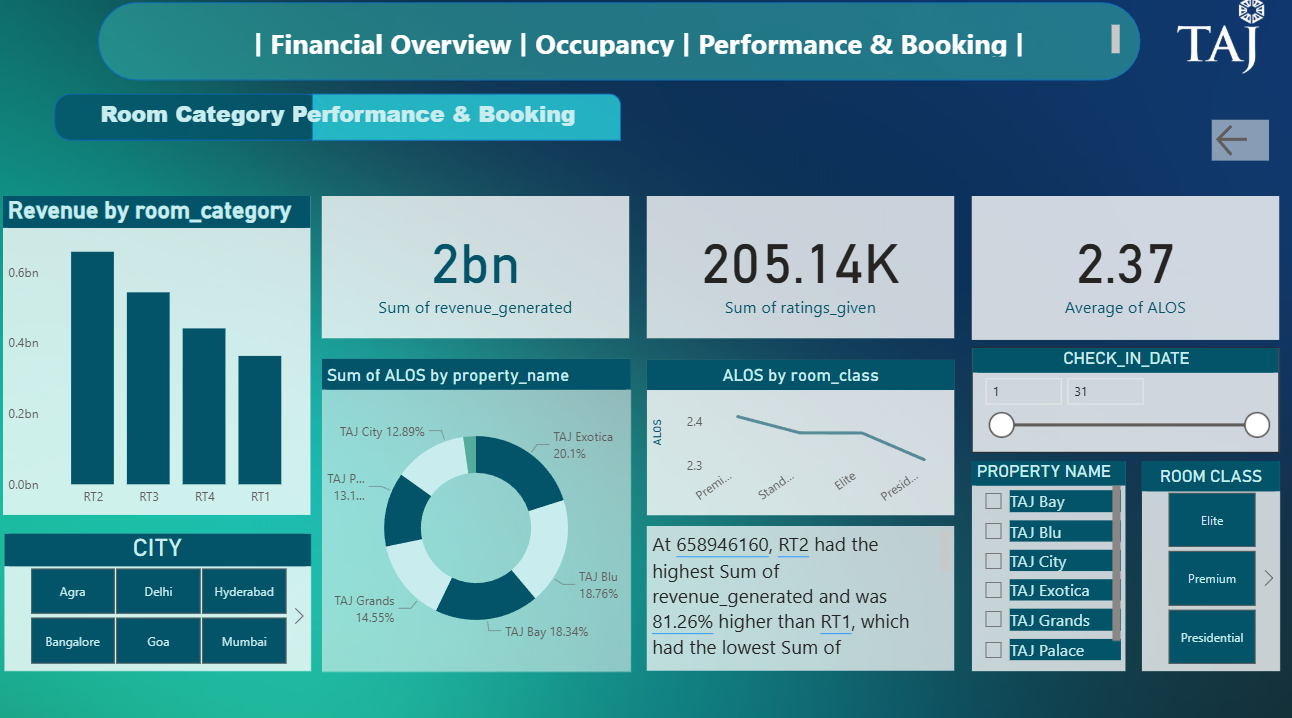

What the dashboard file says about the page in this screenshot:
{"tool":"powerbi","page":{"name":"Room Category","canvas":[1280,720],"ordinal":3},"visuals":[{"type":"image","box":[0,0,1280,720.3],"z":0},{"type":"image","box":[1123,0,156.6,87.2],"z":1000},{"type":"shape","box":[103.2,10.7,1019.8,76.5],"z":2000},{"type":"shape","box":[60.5,99.7,263.4,46.3],"z":3000},{"type":"shape","box":[311.5,99.7,302.6,46.3],"z":4000},{"type":"textbox","box":[140.6,28.5,966.4,40.9],"z":5000},{"type":"clusteredColumnChart","title":" Revenue by room_category","fields":{"Category":["bookings.room_category"],"Y":["Sum(bookings.revenue_generated)"]},"box":[10,200.3,301,312.2],"z":6000},{"type":"textbox","box":[99.7,99.7,491.2,46.3],"z":7000},{"type":"card","fields":{"Values":["Sum(bookings.revenue_generated)"]},"box":[322.2,200.3,301,139.3],"z":8000},{"type":"card","fields":{"Values":["Sum(bookings.ratings_given)"]},"box":[639.4,200.3,301,139.3],"z":9000},{"type":"donutChart","fields":{"Category":["hotels (1).property_name"],"Y":["Sum(bookings.ALOS)"]},"box":[322.2,359.5,302.3,306],"z":10000},{"type":"slicer","title":"PROPERTY NAME","fields":{"Values":["hotels (1).property_name"]},"box":[957.8,460.3,150.5,205.3],"z":11000},{"type":"slicer","title":"CITY","fields":{"Values":["hotels (1).city"]},"box":[11.2,531.2,299.8,134.3],"z":12000},{"type":"textbox","box":[639.4,523.7,301,141.8],"z":13000},{"type":"card","fields":{"Values":["Avg(bookings.ALOS)"]},"box":[957.8,200.3,301,140.6],"z":14000},{"type":"slicer","title":"CHECK_IN_DATE","fields":{"Values":["bookings.check_in_date.Variation.Date Hierarchy.Day"]},"box":[957.8,348.3,301,103.2],"z":15000},{"type":"lineChart","title":" ALOS by room_class","fields":{"Category":["rooms.room_class"],"Y":["Avg(bookings.ALOS)"]},"box":[639.4,360.7,301,151.8],"z":16000},{"type":"slicer","title":"ROOM CLASS","fields":{"Values":["rooms.room_class"]},"box":[1123.3,460.3,135.6,205.3],"z":17000},{"type":"actionButton","box":[1191.7,125.5,56.3,40.4],"z":18000}]}

Visuals, with their boxes in screenshot pixels (x1, y1, x2, y2), scaled from the page's 1280x720 canvas onto the 1292x718 screenshot:
image: [left=0, top=0, right=1291, bottom=717]
image: [left=1134, top=0, right=1291, bottom=87]
shape: [left=104, top=11, right=1134, bottom=87]
shape: [left=61, top=99, right=327, bottom=146]
shape: [left=314, top=99, right=620, bottom=146]
textbox: [left=142, top=28, right=1117, bottom=69]
" Revenue by room_category" clusteredColumnChart: [left=10, top=200, right=314, bottom=511]
textbox: [left=101, top=99, right=596, bottom=146]
card - Sum(bookings.revenue_generated): [left=325, top=200, right=629, bottom=339]
card - Sum(bookings.ratings_given): [left=645, top=200, right=949, bottom=339]
donutChart - hotels (1).property_name x Sum(bookings.ALOS): [left=325, top=359, right=630, bottom=664]
"PROPERTY NAME" slicer: [left=967, top=459, right=1119, bottom=664]
"CITY" slicer: [left=11, top=530, right=314, bottom=664]
textbox: [left=645, top=522, right=949, bottom=664]
card - Avg(bookings.ALOS): [left=967, top=200, right=1271, bottom=340]
"CHECK_IN_DATE" slicer: [left=967, top=347, right=1271, bottom=450]
" ALOS by room_class" lineChart: [left=645, top=360, right=949, bottom=511]
"ROOM CLASS" slicer: [left=1134, top=459, right=1271, bottom=664]
actionButton: [left=1203, top=125, right=1260, bottom=165]
